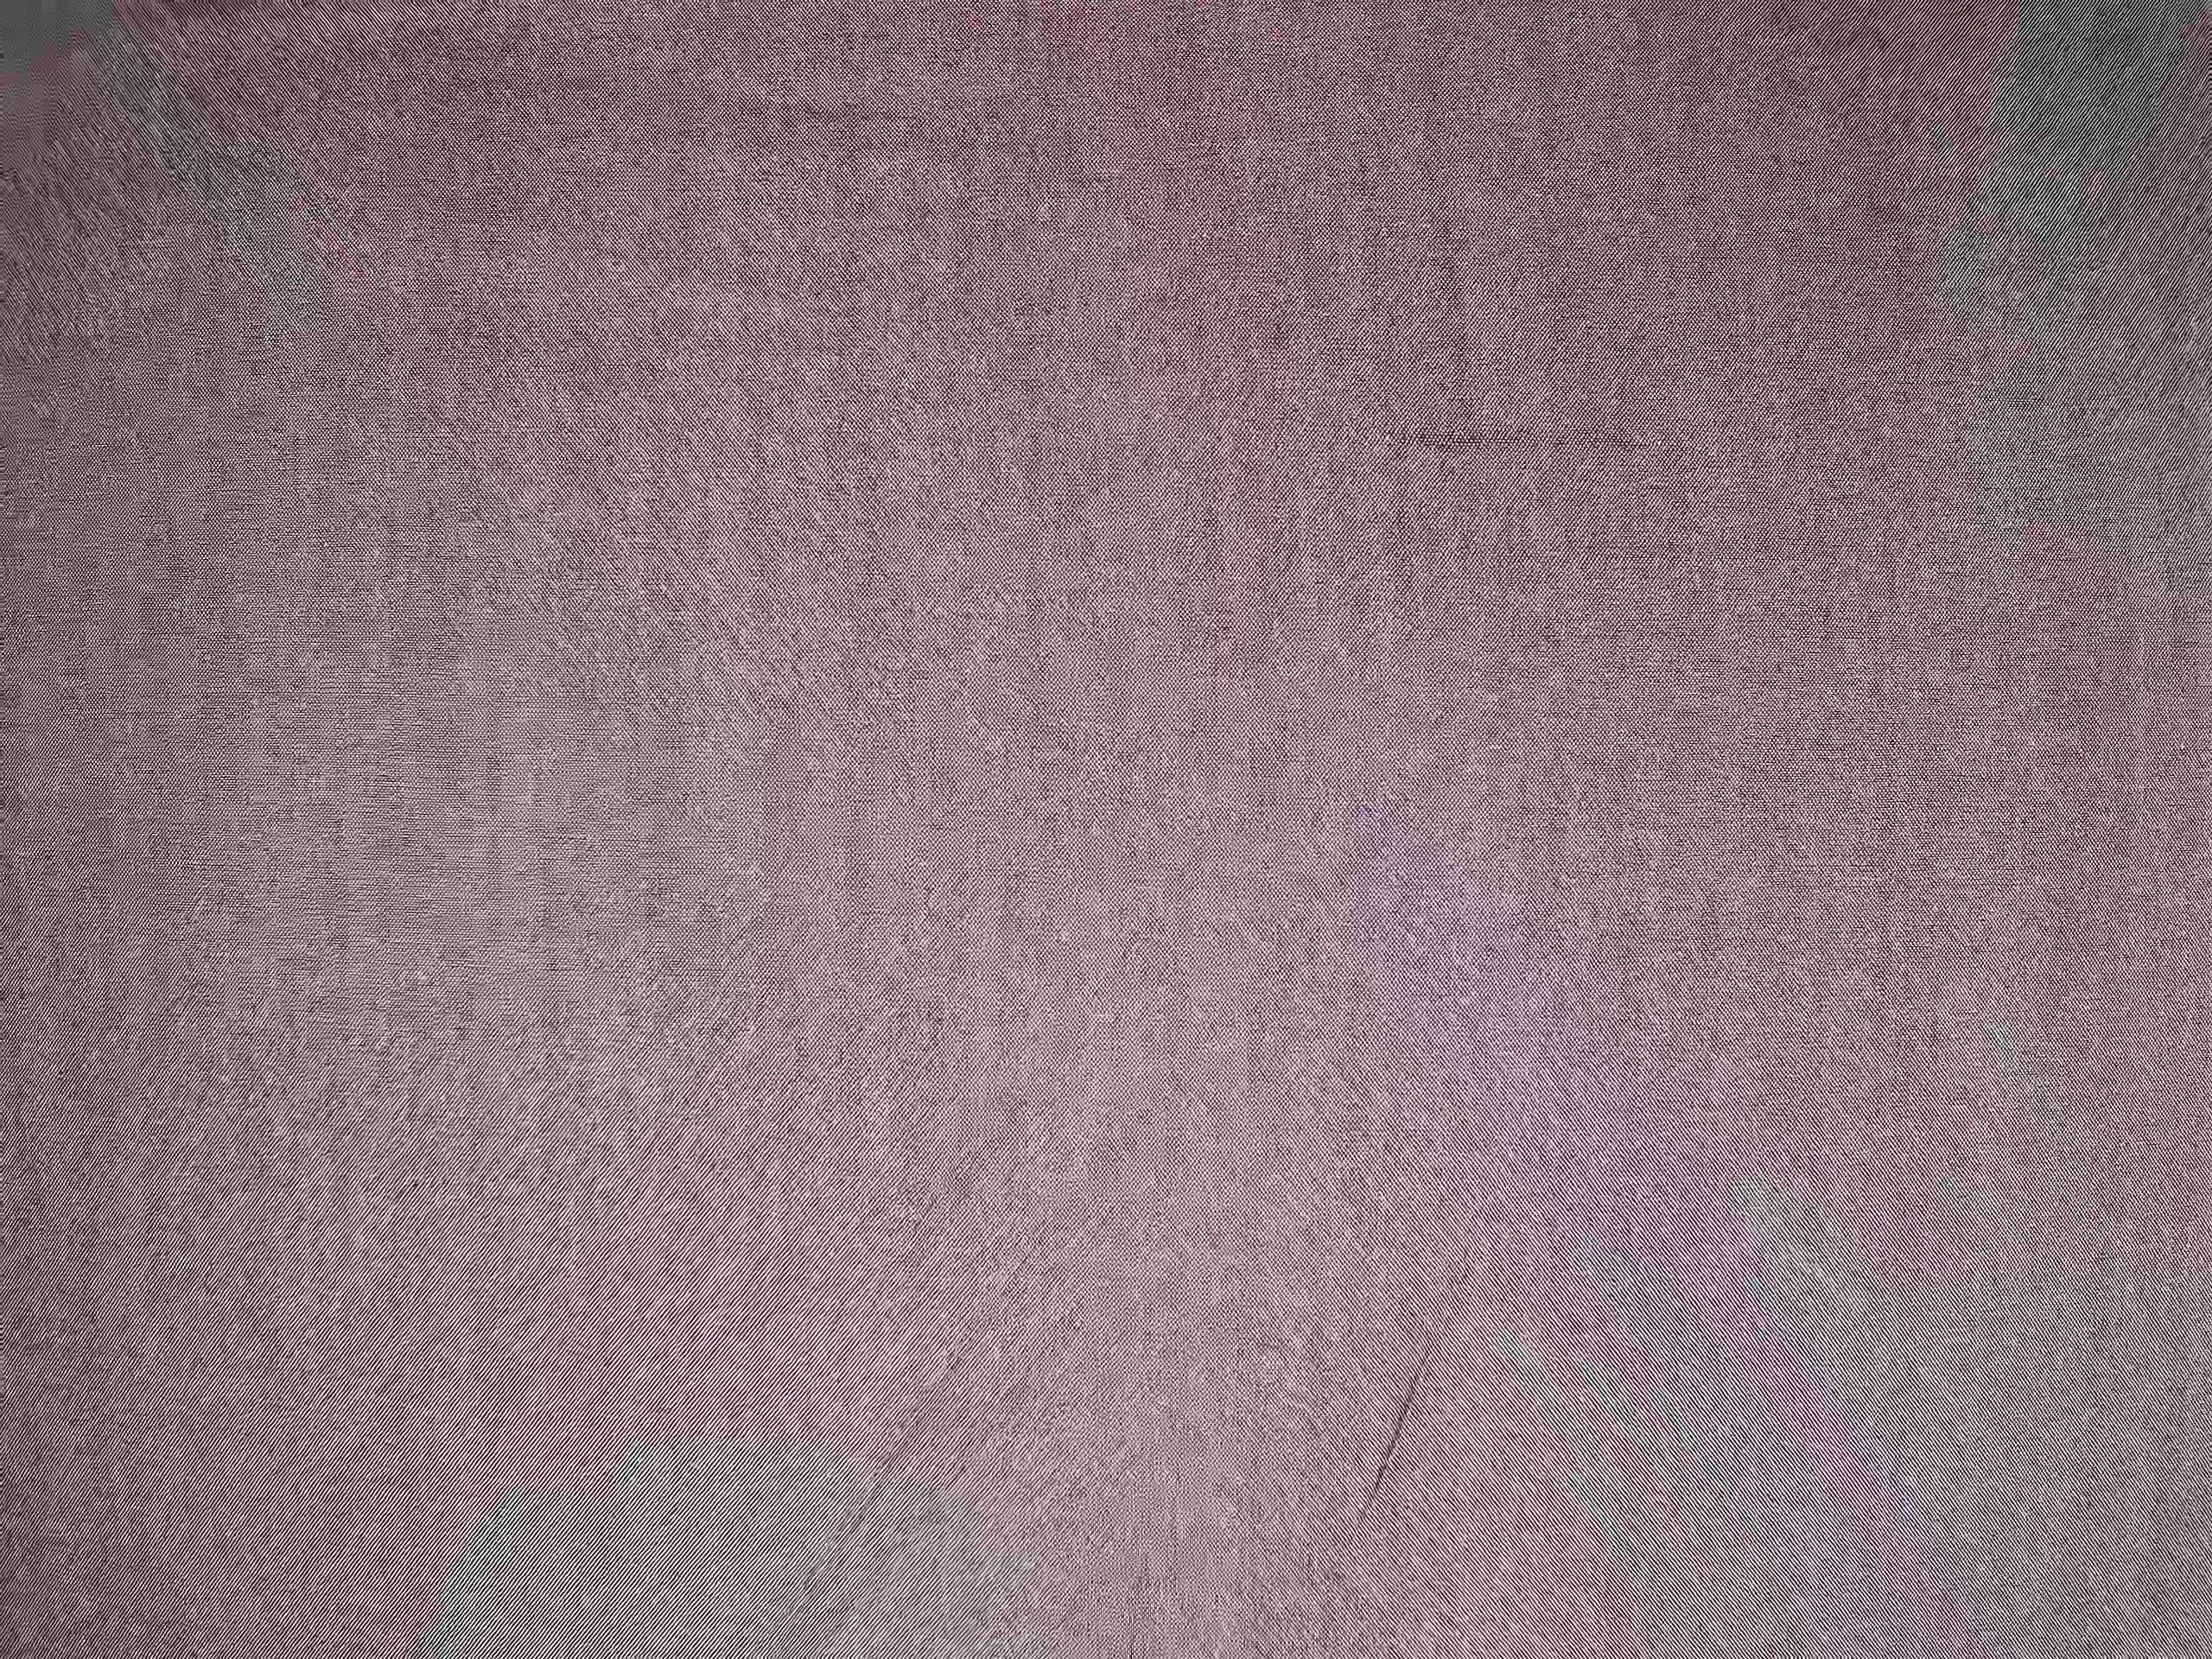thin-spinning: (1315, 406, 1695, 469)
